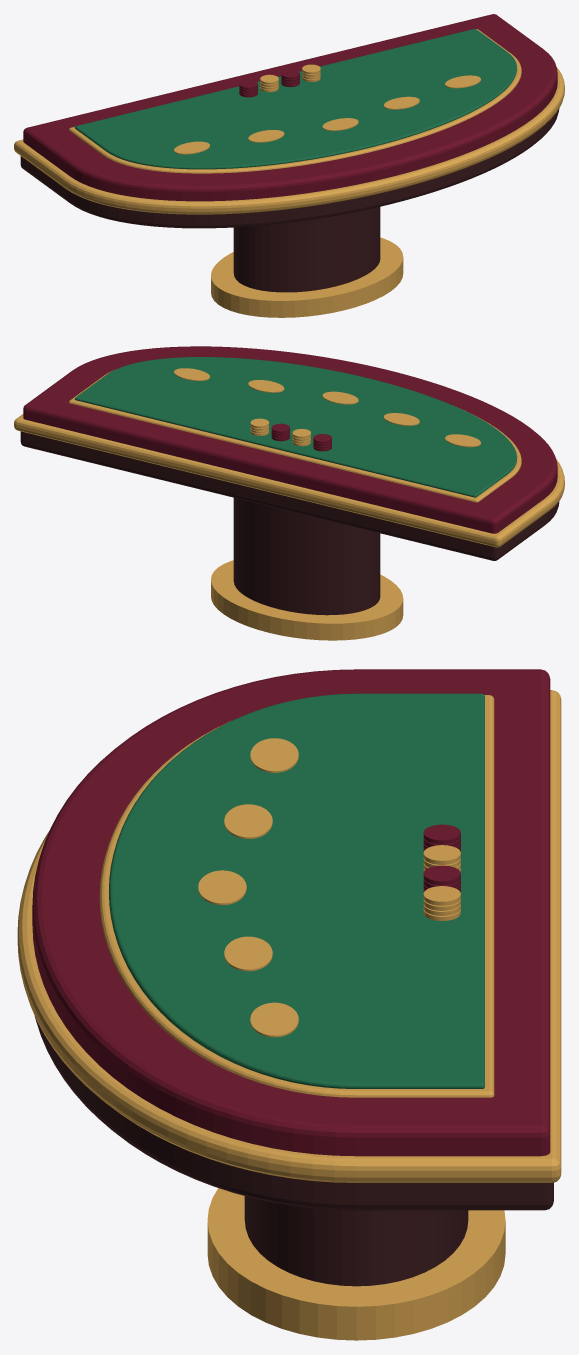
The model's file is BlackjackTable.fbx.
3 renders of one model, top to bottom at view 1: azimuth 30°, elevation 25°; view 2: azimuth 150°, elevation 25°; view 3: azimuth 270°, elevation 25°, orthographic. The views are drawn at different scales.
Visible parts, largest first — view 1: Green felt, Burgundy padded rail, Central pedestal, Gold rim, Dark wood underside, Pedestal gold foot, Gold felt border; view 2: Green felt, Burgundy padded rail, Central pedestal, Dark wood underside, Gold rim, Pedestal gold foot, Gold felt border; view 3: Green felt, Burgundy padded rail, Gold rim, Pedestal gold foot, Central pedestal, Dark wood underside, Gold felt border, Bet marker 4, Bet marker 0, Bet marker 3, Bet marker 1, Bet marker 2.
Part boxes in pixels (x1,y1,x2,y2): Green felt: [74, 28, 517, 169]; Burgundy padded rail: [23, 14, 557, 201]; Central pedestal: [233, 207, 380, 292]; Gold rim: [14, 68, 564, 214]; Dark wood underside: [20, 109, 559, 228]; Pedestal gold foot: [211, 237, 403, 317]; Gold felt border: [69, 29, 521, 173]; Green felt: [75, 357, 517, 497]; Burgundy padded rail: [23, 346, 557, 533]; Central pedestal: [233, 497, 380, 615]; Dark wood underside: [20, 431, 559, 560]; Gold rim: [14, 414, 564, 547]; Pedestal gold foot: [211, 560, 403, 640]; Gold felt border: [68, 370, 521, 502]; Green felt: [108, 693, 484, 1088]; Burgundy padded rail: [32, 669, 550, 1156]; Gold rim: [17, 690, 561, 1182]; Pedestal gold foot: [207, 1188, 505, 1340]; Central pedestal: [244, 1196, 468, 1286]; Dark wood underside: [34, 1016, 553, 1210]; Gold felt border: [99, 695, 494, 1097]; Bet marker 4: [250, 1002, 298, 1037]; Bet marker 0: [250, 738, 298, 772]; Bet marker 3: [224, 936, 272, 971]; Bet marker 1: [224, 804, 272, 838]; Bet marker 2: [198, 870, 246, 905].
Size of the model in its own units: 302 by 114 by 146.
